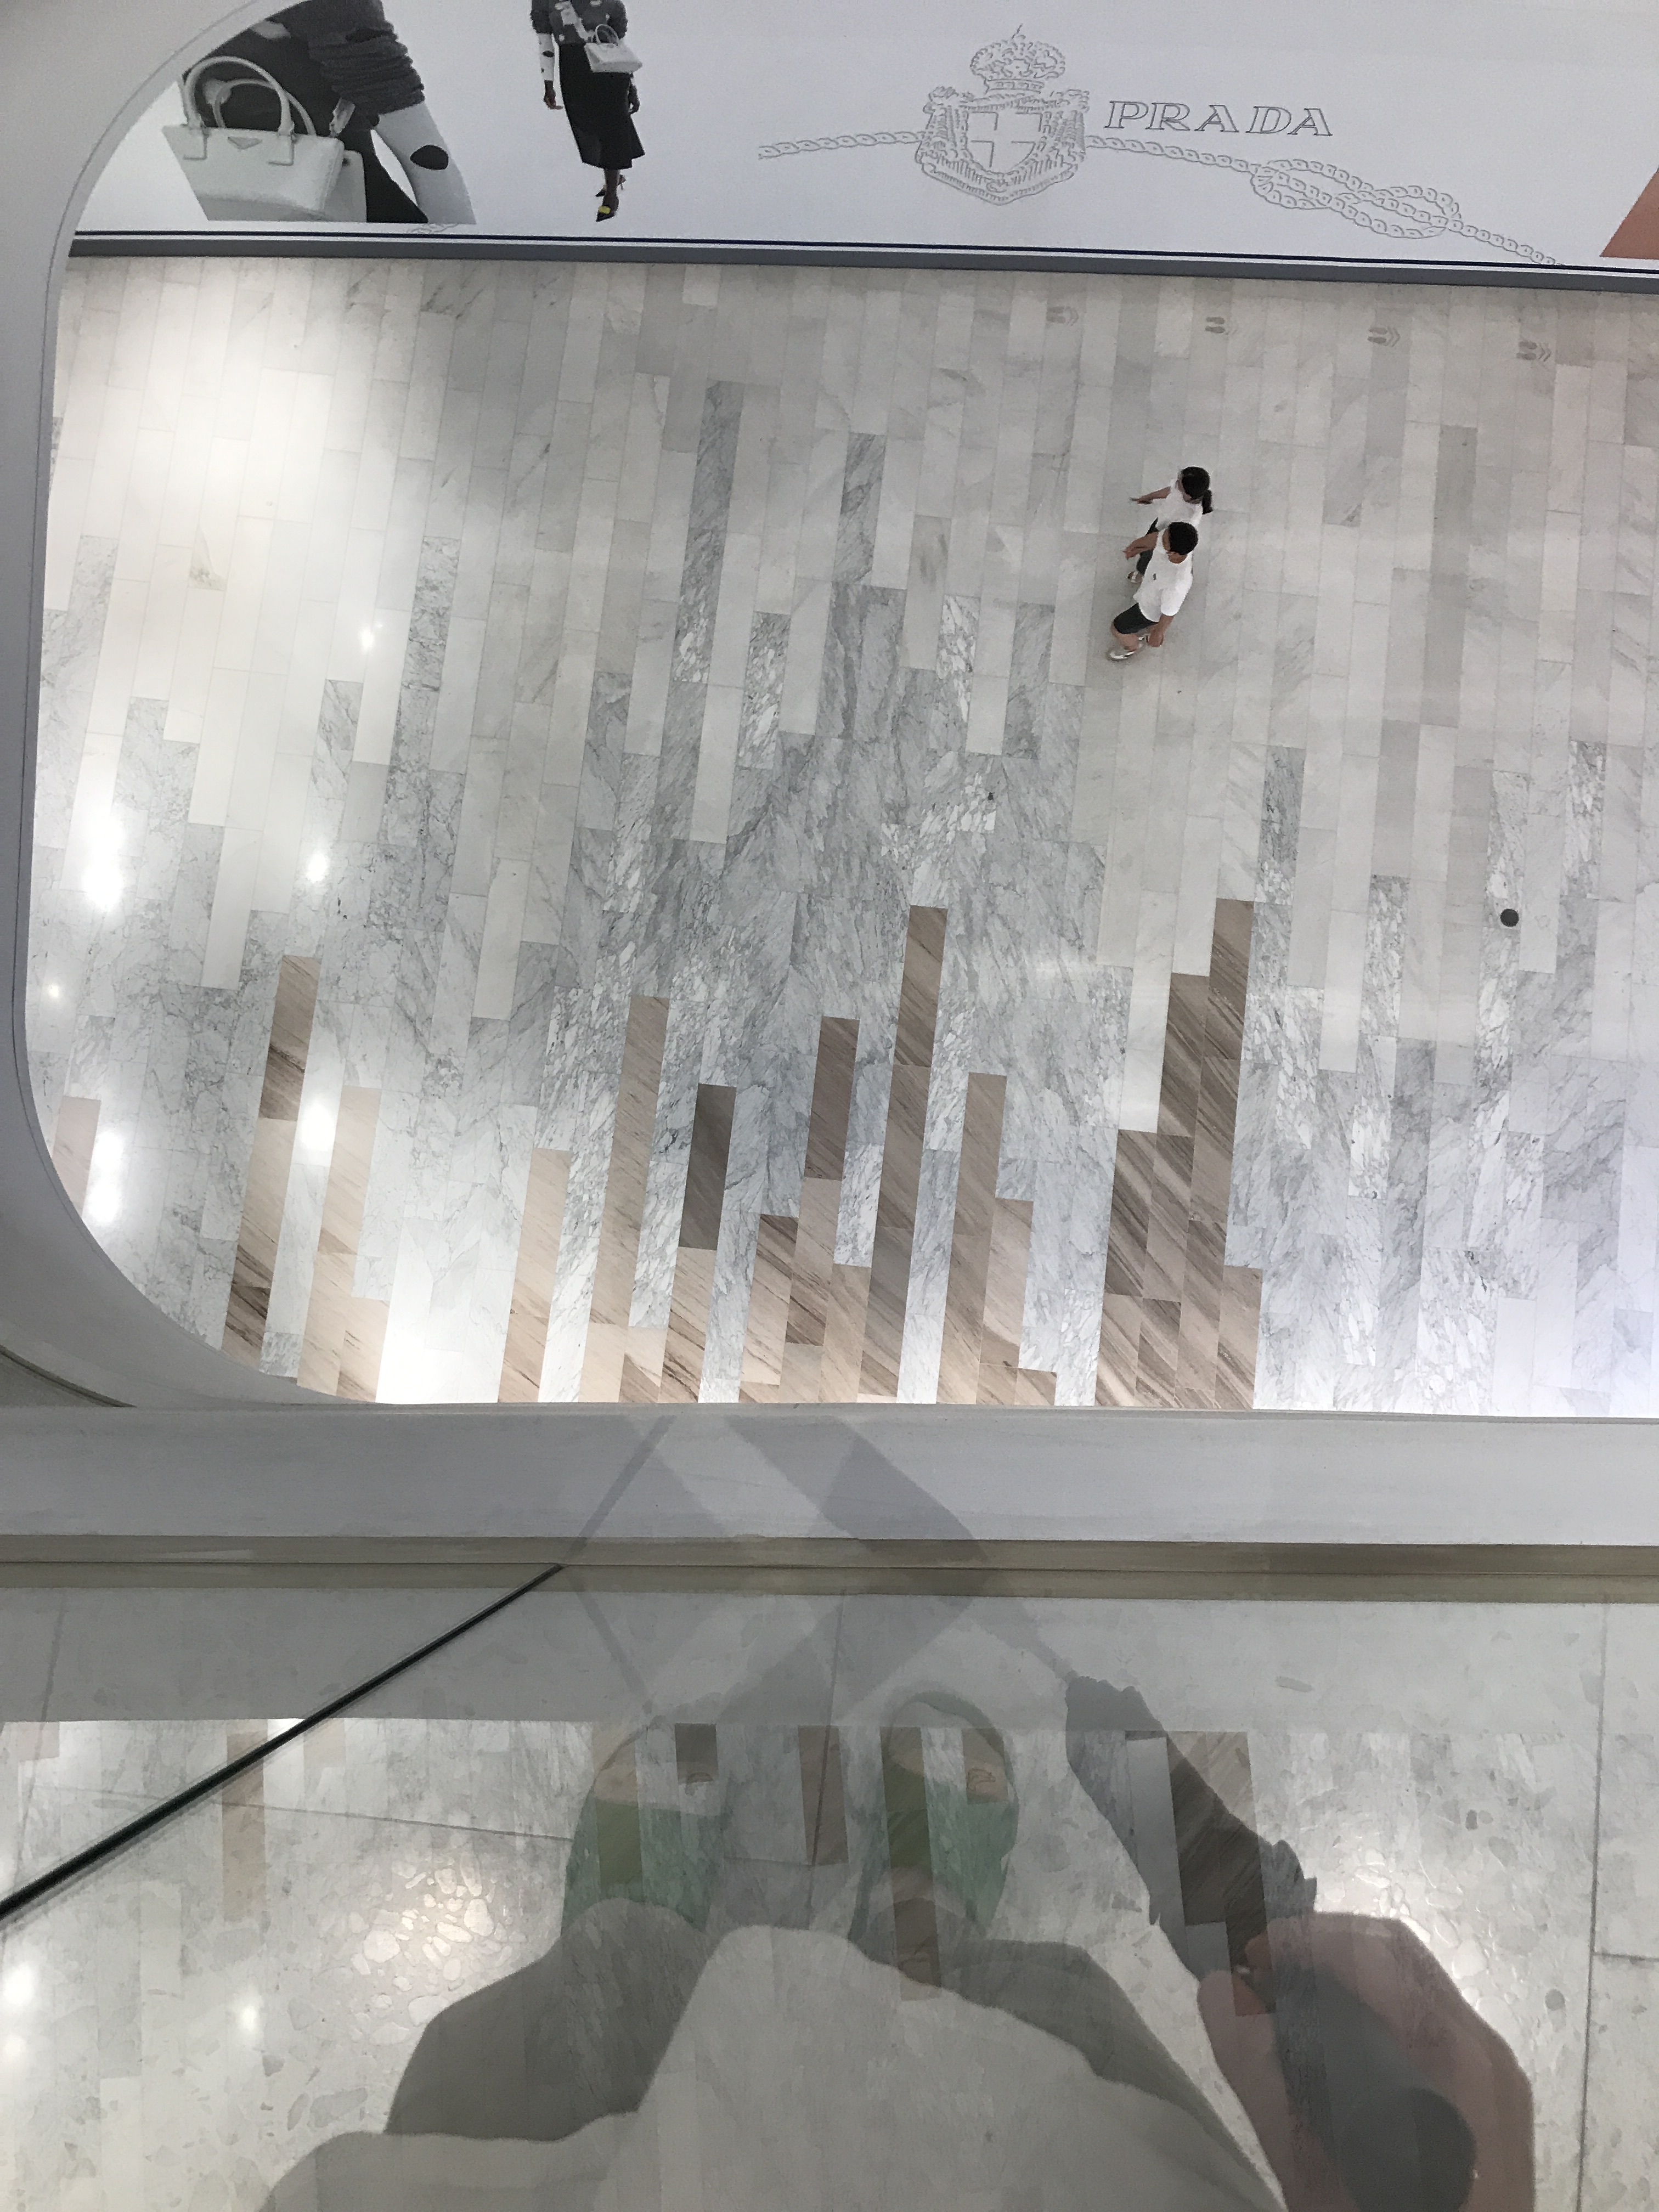person: (1101, 522, 1199, 663), (1128, 464, 1212, 590)
